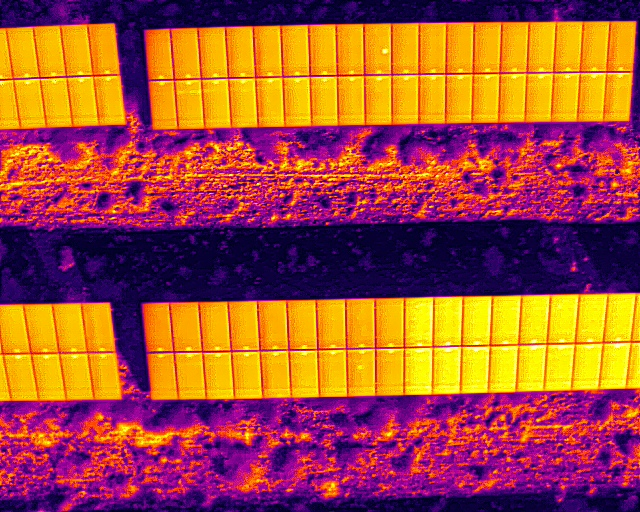photovoltaic_panels: (142, 19, 637, 130), (138, 292, 636, 400), (3, 22, 128, 130), (4, 302, 125, 401)
single_spot: (345, 347, 377, 397), (363, 22, 393, 75)
